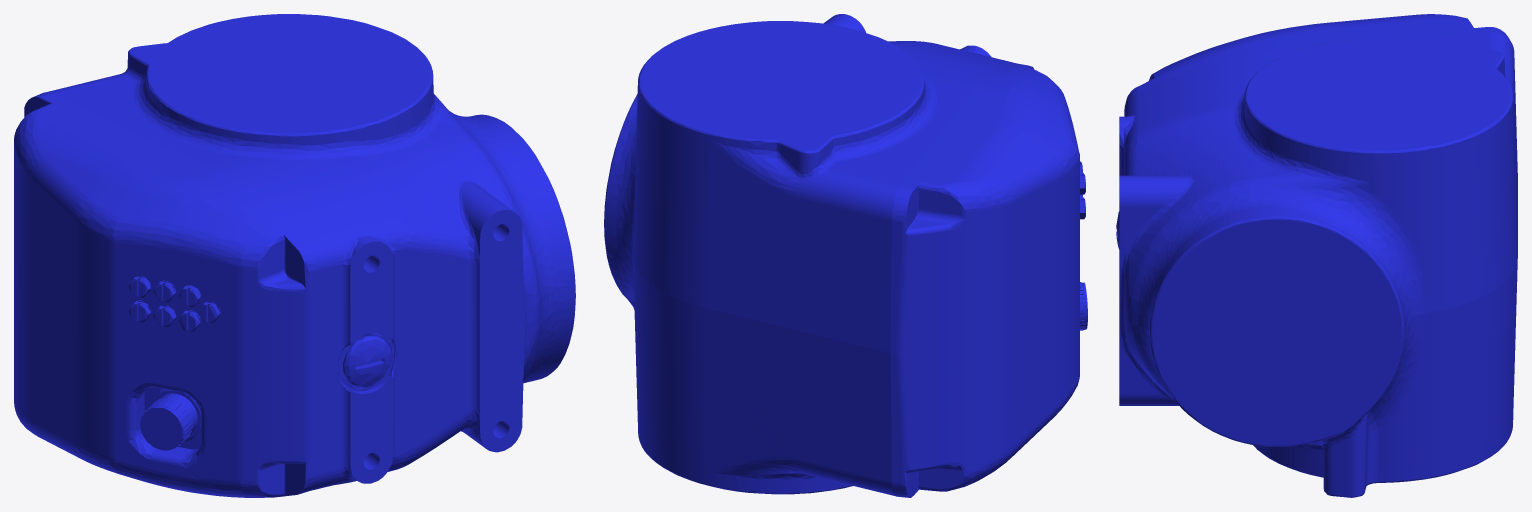
3 renders of one model, left to right at view 1: azimuth 30°, elevation 25°; view 2: azimuth 150°, elevation 25°; view 3: azimuth 270°, elevation 25°, orthographic. The views are drawn at different scales.
Visible parts, largest first — view 1: /Link3/Link3_001-mesh/0; view 2: /Link3/Link3_001-mesh/0; view 3: /Link3/Link3_001-mesh/0.
Boxes of the visible parts, x1,y1,x2,y2 form: /Link3/Link3_001-mesh/0: [14, 14, 575, 497]; /Link3/Link3_001-mesh/0: [604, 14, 1087, 497]; /Link3/Link3_001-mesh/0: [1116, 14, 1517, 497].
Bounding box in the file's own units: 0.175 × 0.144 × 0.1579.
